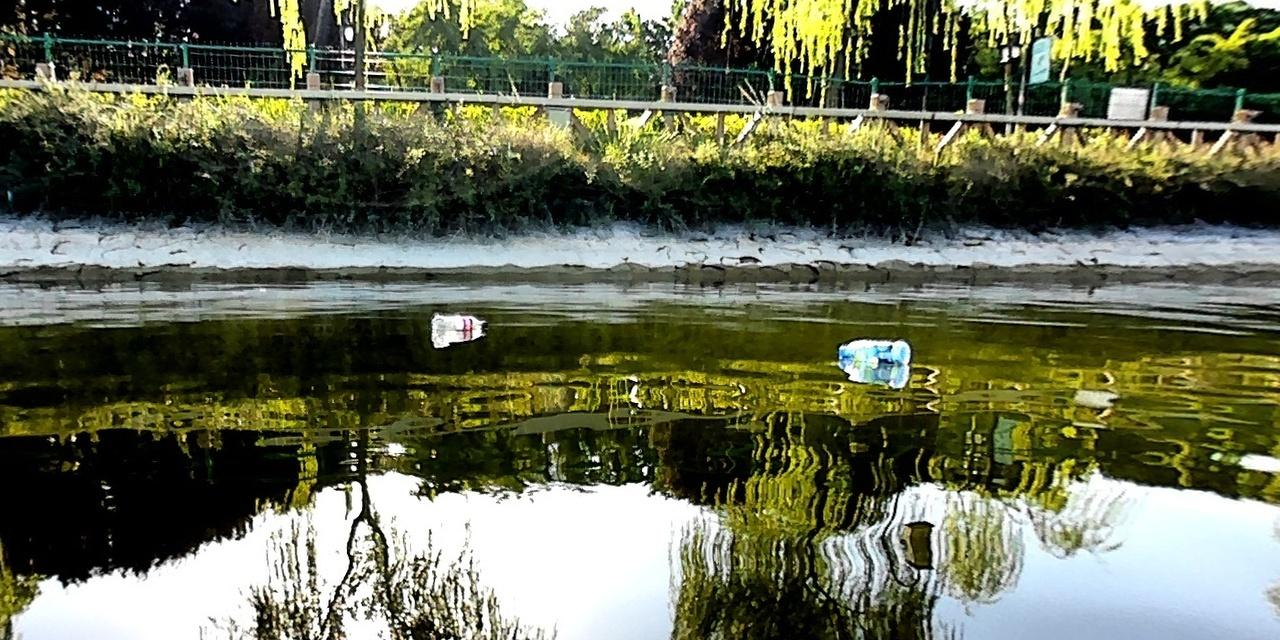bottle: (834, 335, 912, 366), (425, 312, 489, 333)
